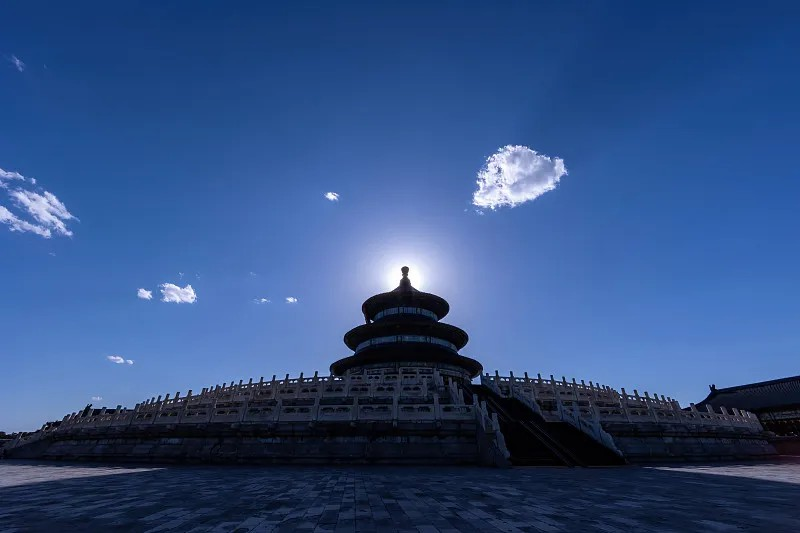Heaven: (329, 265, 484, 379)
